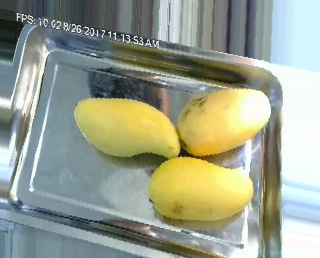Mango: (148, 156, 253, 219), (74, 98, 180, 157), (176, 87, 269, 154)
